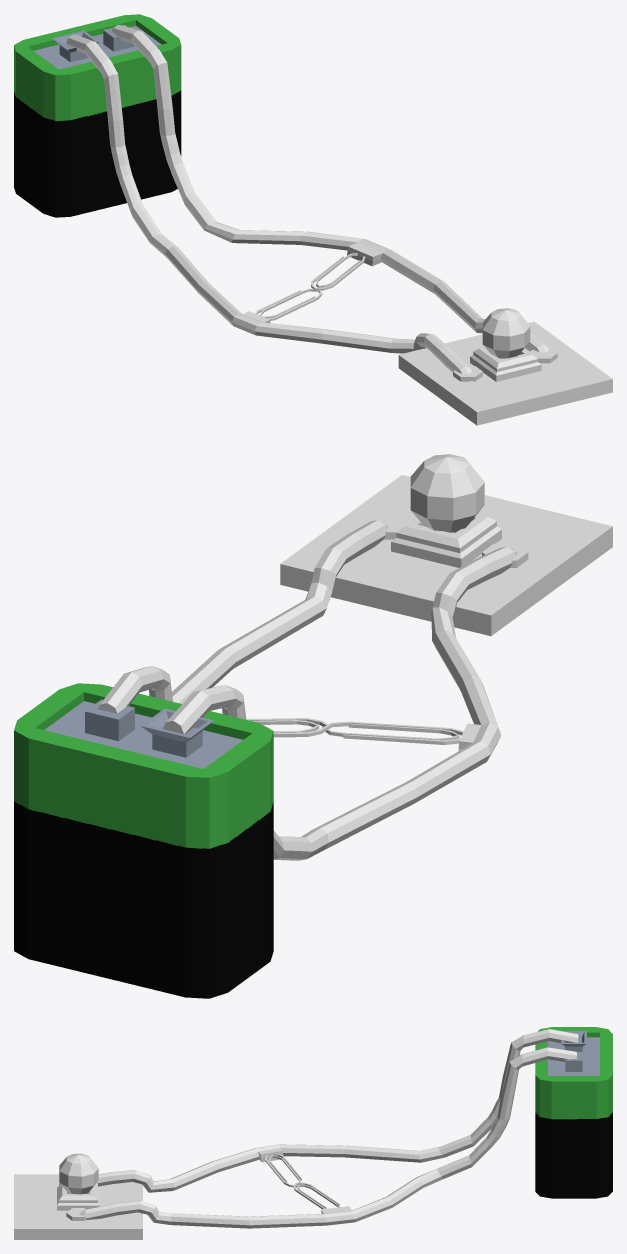
The picture shows the model from 3 angles, top to bottom: view 1: azimuth 30°, elevation 25°; view 2: azimuth 150°, elevation 25°; view 3: azimuth 270°, elevation 25°; orthographic projection. The views are drawn at different scales.
Visible parts, largest first — view 1: Battery, Cube, Cylinder, Cylinder.001, Sphere, Sundetiras.001, Sundetiras; view 2: Battery, Cube, Cylinder, Cylinder.001, Sphere, Sundetiras.001, Sundetiras; view 3: Battery, Cylinder.001, Cube, Cylinder, Sphere, Sundetiras, Sundetiras.001.
Part boxes in pixels (x1,y1,x2,y2): Battery: (14, 14, 181, 217); Cube: (398, 321, 612, 425); Cylinder: (66, 34, 472, 381); Cylinder.001: (112, 25, 548, 352); Sphere: (482, 308, 530, 358); Sundetiras.001: (255, 288, 322, 320); Sundetiras: (311, 253, 365, 290); Battery: (14, 683, 273, 998); Cube: (280, 475, 612, 636); Cylinder: (163, 546, 517, 860); Cylinder.001: (98, 520, 387, 713); Sphere: (410, 454, 484, 532); Sundetiras.001: (322, 721, 463, 744); Sundetiras: (246, 718, 330, 737); Battery: (535, 1027, 612, 1198); Cylinder.001: (79, 1047, 576, 1228); Cube: (14, 1174, 142, 1239); Cylinder: (97, 1029, 578, 1192); Sphere: (59, 1153, 98, 1194); Sundetiras: (293, 1182, 340, 1209); Sundetiras.001: (265, 1153, 301, 1187).
Bounding box in the file's own units: 357 × 229 × 929.
